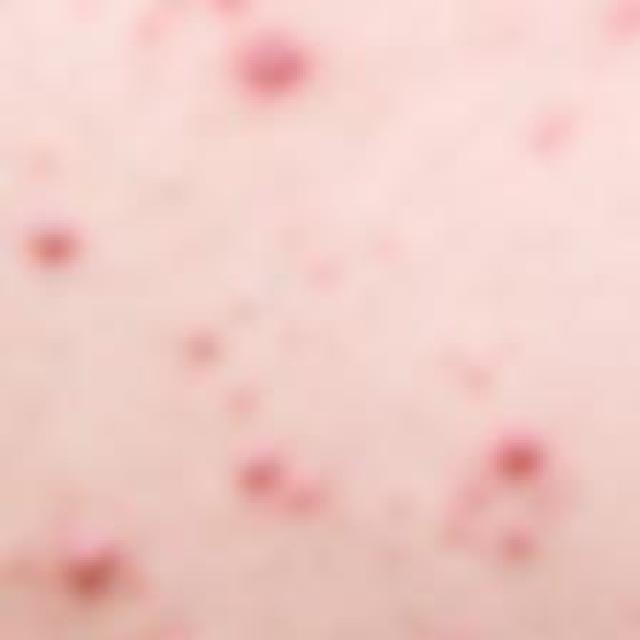others: (45, 36, 572, 635)
